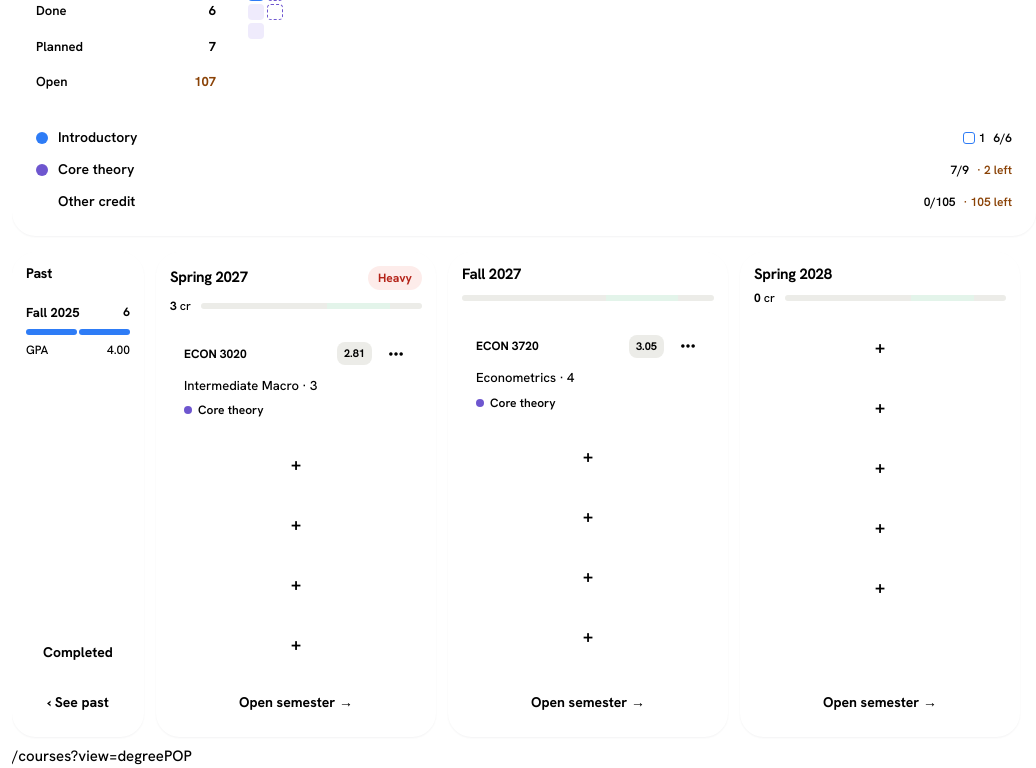
Test: moving and adding › Open semester goes to the semester view for that term
(page scrolled)
Click the 2nd button "Open semester →": (588, 702) [462,681,714,723]
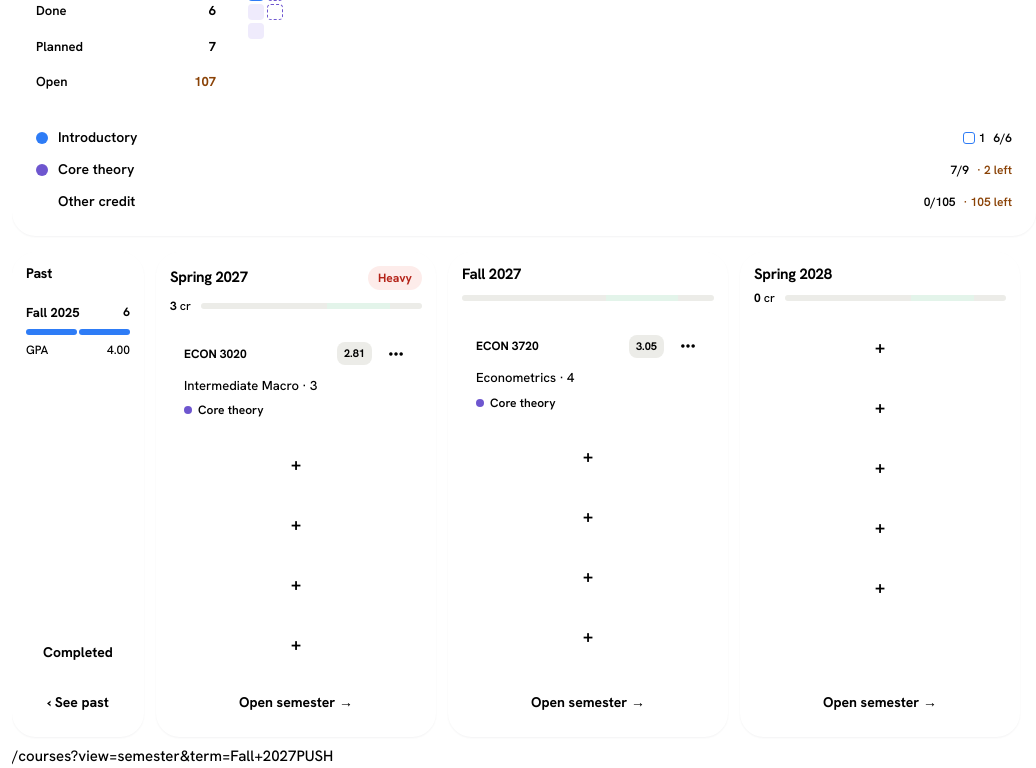
Check: the text with test id "location" reads "/courses?view=semester&term=Fall+2027", box [12,746,296,766]
